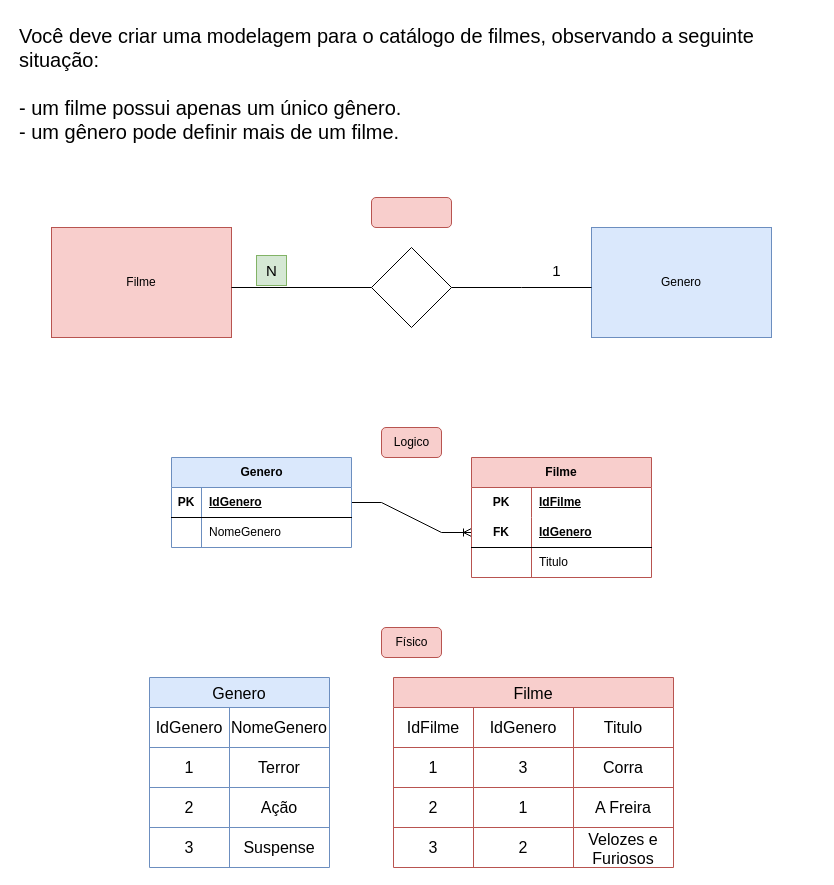
Some shapes in this 834 by 885 pixel diagram are drawn without their labels. Here are the shapes that lost their labels. From the top down, the centre of each, then its label:
At pixel 411 212: "Conceitual".
At pixel 411 287: "Possuí".
